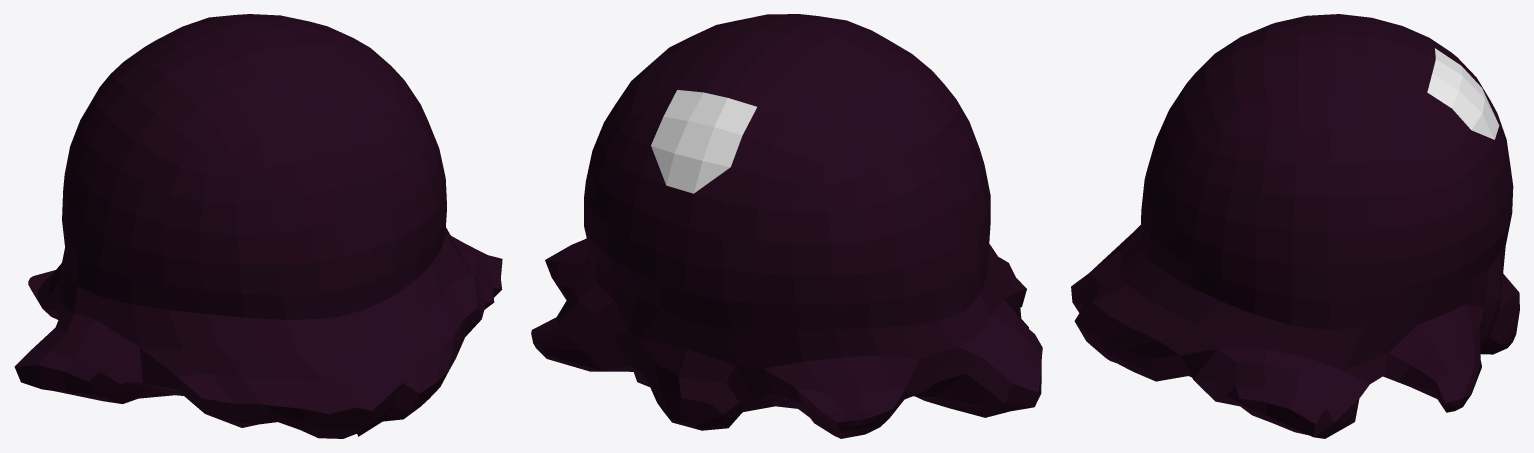
File: fobos.fbx
3 renders of one model, left to right at view 1: azimuth 30°, elevation 25°; view 2: azimuth 150°, elevation 25°; view 3: azimuth 270°, elevation 25°, orthographic. The views are drawn at different scales.
Parts seen in each view (by area): view 1: fobos cuerpo; view 2: fobos cuerpo, mascara ojos; view 3: fobos cuerpo, mascara ojos.
Part boxes in pixels (box(x1,y1,x2,y2)): fobos cuerpo: box(14, 14, 502, 438); fobos cuerpo: box(531, 14, 1042, 438); mascara ojos: box(651, 90, 756, 193); fobos cuerpo: box(1071, 14, 1519, 438); mascara ojos: box(1427, 48, 1499, 139).
Bounding box in the file's own units: 2.65 × 1.68 × 2.18.
